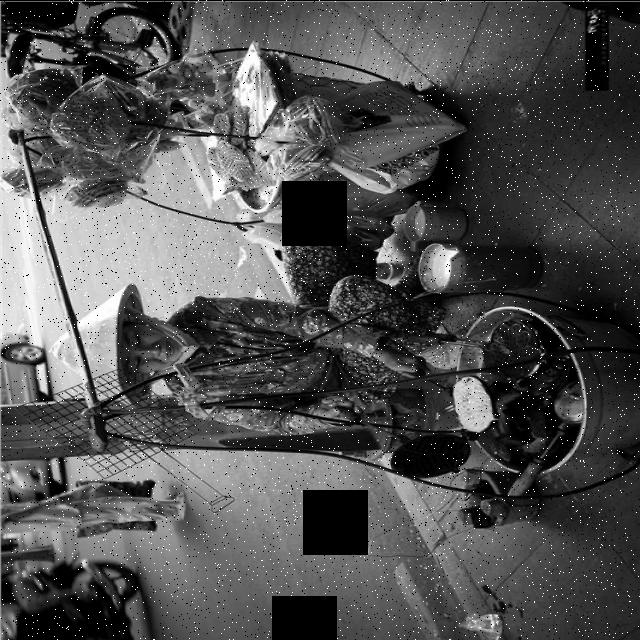food-booth: (0, 39, 640, 497)
